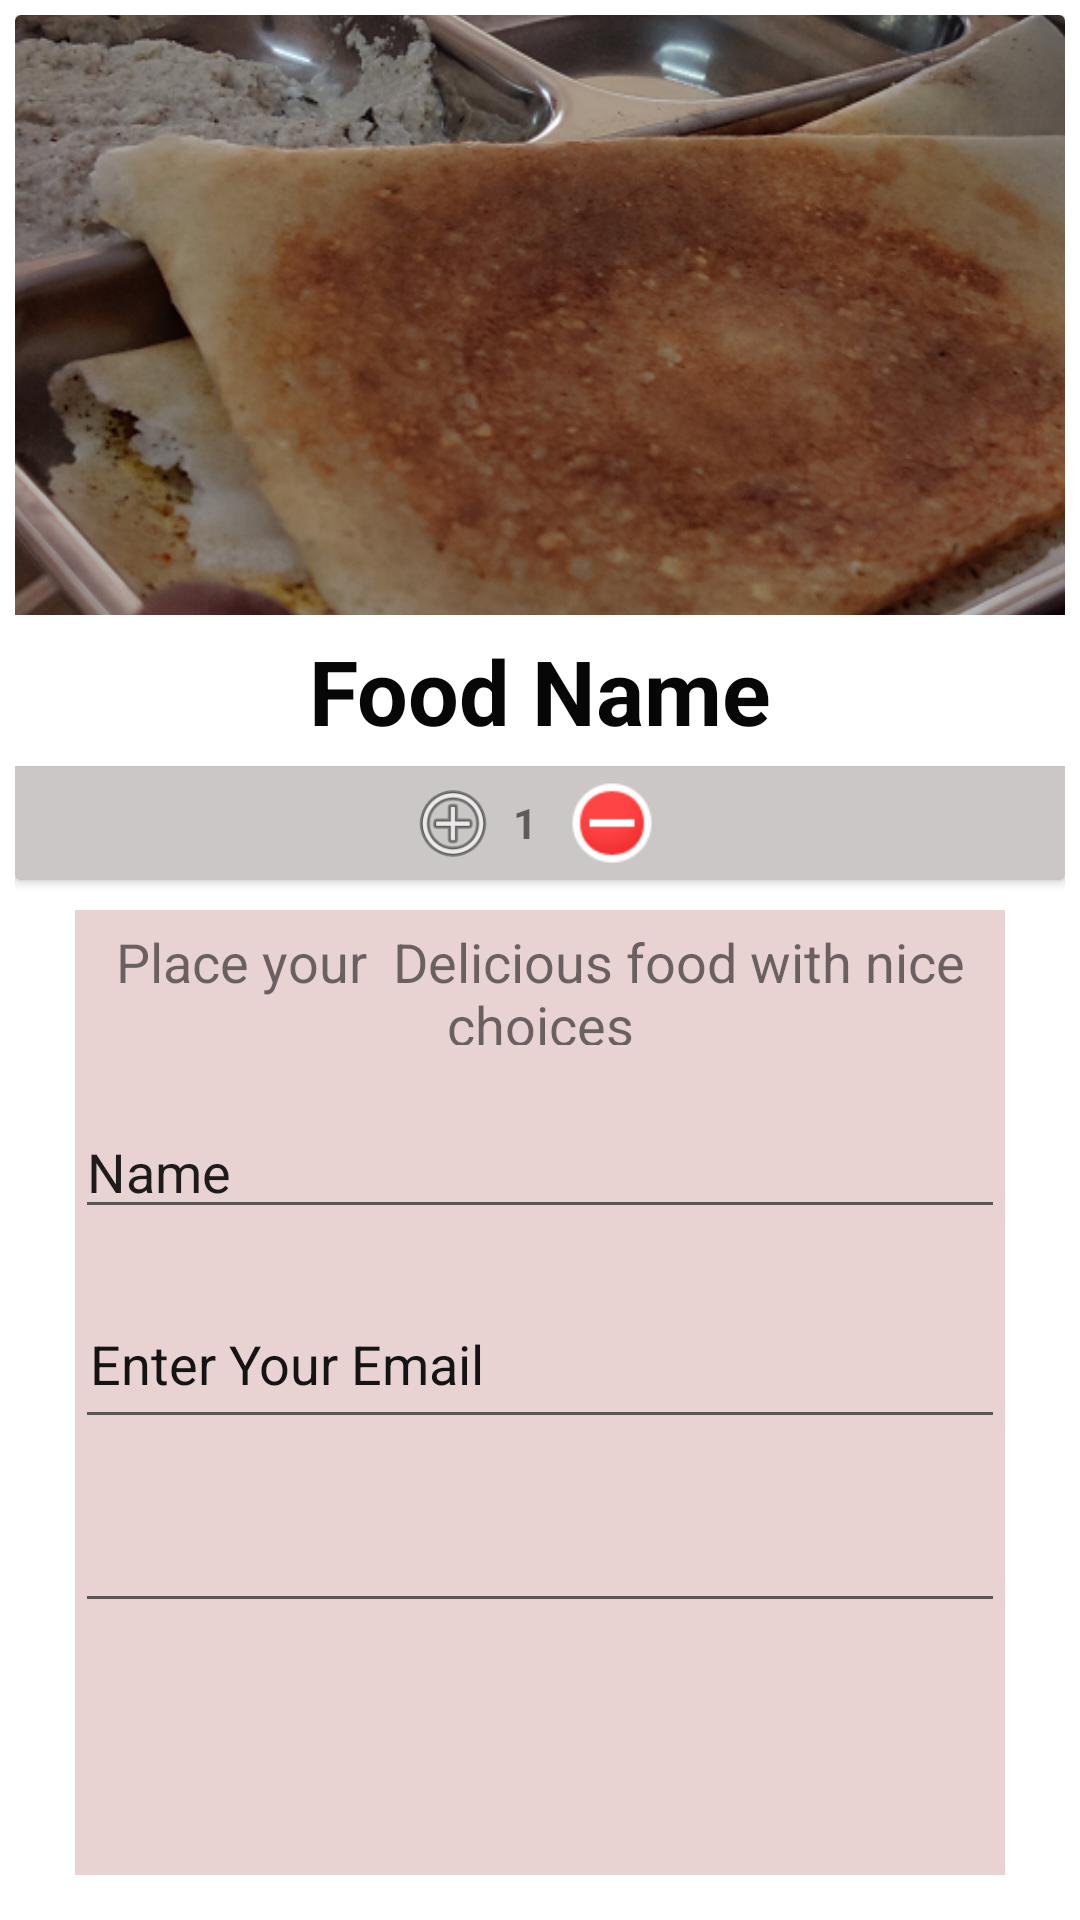

Where icons sit on this 1080w x 1920h app screen, as (x1, y1, x2, y2):
add: (420, 790, 486, 857)
presence busy: (573, 784, 651, 862)
